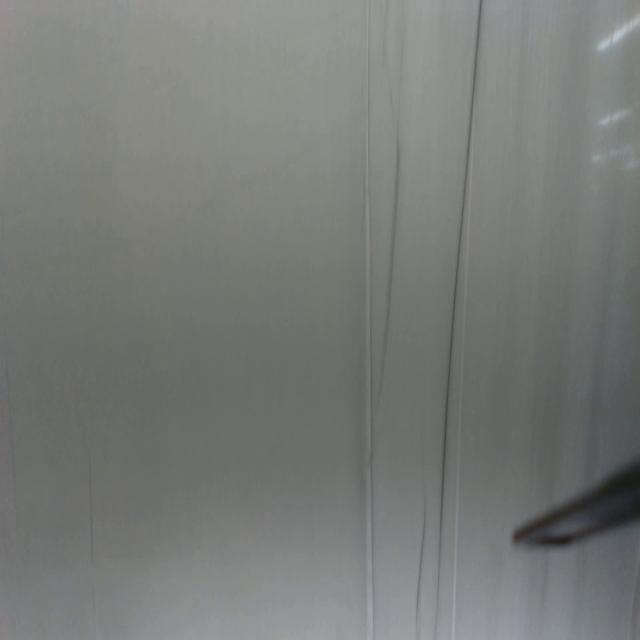crease: (434, 0, 486, 637), (363, 1, 377, 640), (384, 90, 404, 375), (412, 488, 428, 638), (85, 448, 95, 574)
